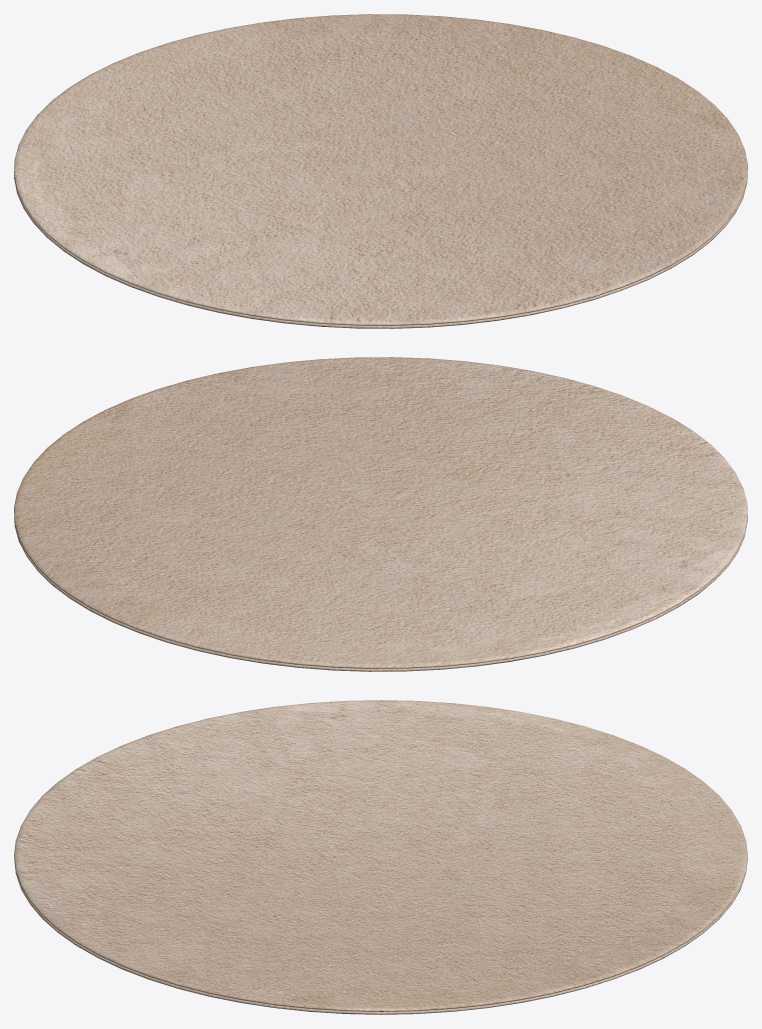
The model's file is 39 - STOENSE Rug, low pile - off-white 195 cm.glb.
3 renders of one model, top to bottom at view 1: azimuth 30°, elevation 25°; view 2: azimuth 150°, elevation 25°; view 3: azimuth 270°, elevation 25°, orthographic.
Parts seen in each view (by area): view 1: 60495593_rug_low_pile:1, 60495593_rug_low_pile:2; view 2: 60495593_rug_low_pile:1, 60495593_rug_low_pile:2; view 3: 60495593_rug_low_pile:1, 60495593_rug_low_pile:2.
Boxes of the visible parts, bbox=[...] form: 60495593_rug_low_pile:1: bbox=[14, 14, 747, 325]; 60495593_rug_low_pile:2: bbox=[14, 169, 747, 328]; 60495593_rug_low_pile:1: bbox=[14, 357, 747, 668]; 60495593_rug_low_pile:2: bbox=[14, 512, 747, 671]; 60495593_rug_low_pile:1: bbox=[14, 700, 747, 1011]; 60495593_rug_low_pile:2: bbox=[14, 858, 747, 1014].
Size of the model in its own units: 1.95 by 0.018 by 1.95.
1 material, 1 textured.
